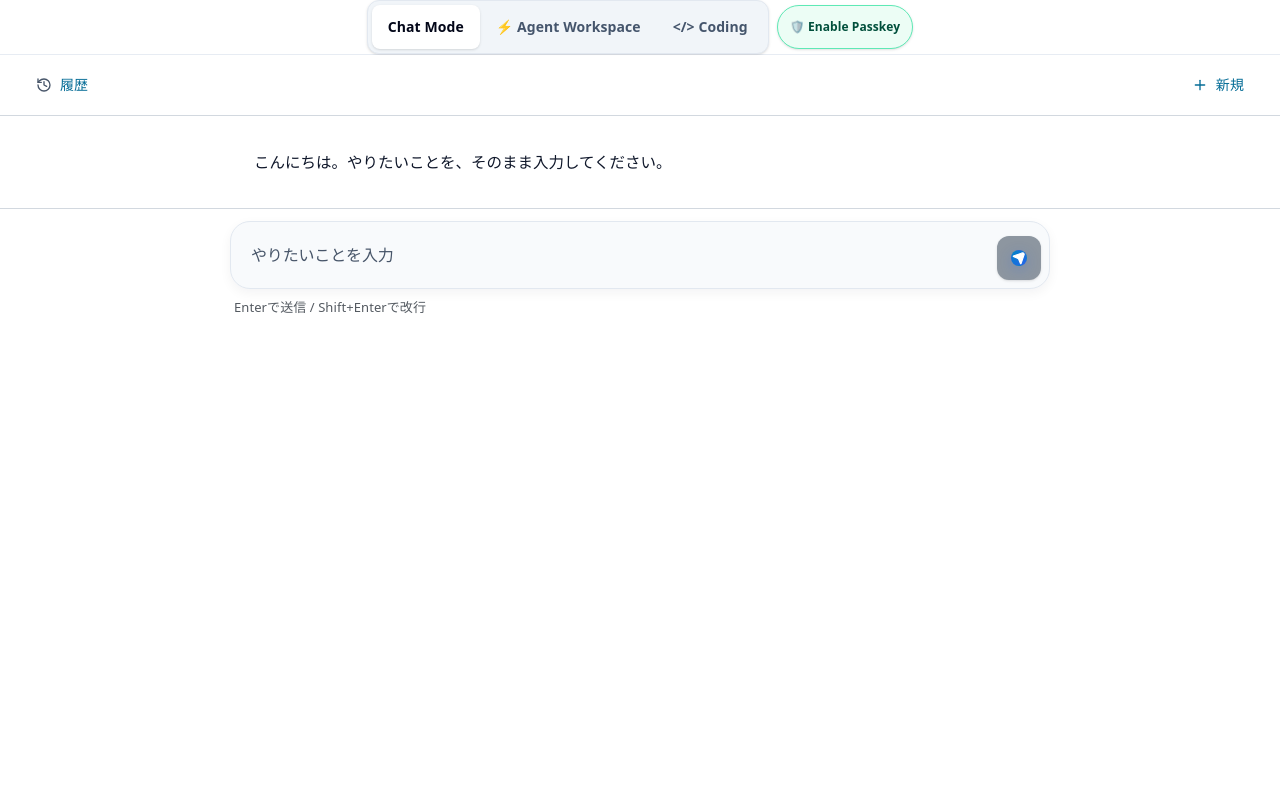
Test: UnifiedChat › shows verified Supervisor artifacts as downloads without persisting binary payloads
Type "競合を調査してPowerPointにまとめてください" into the text box with placeholder "やりたいことを入力" at (614, 255), box [239,230,989,280]
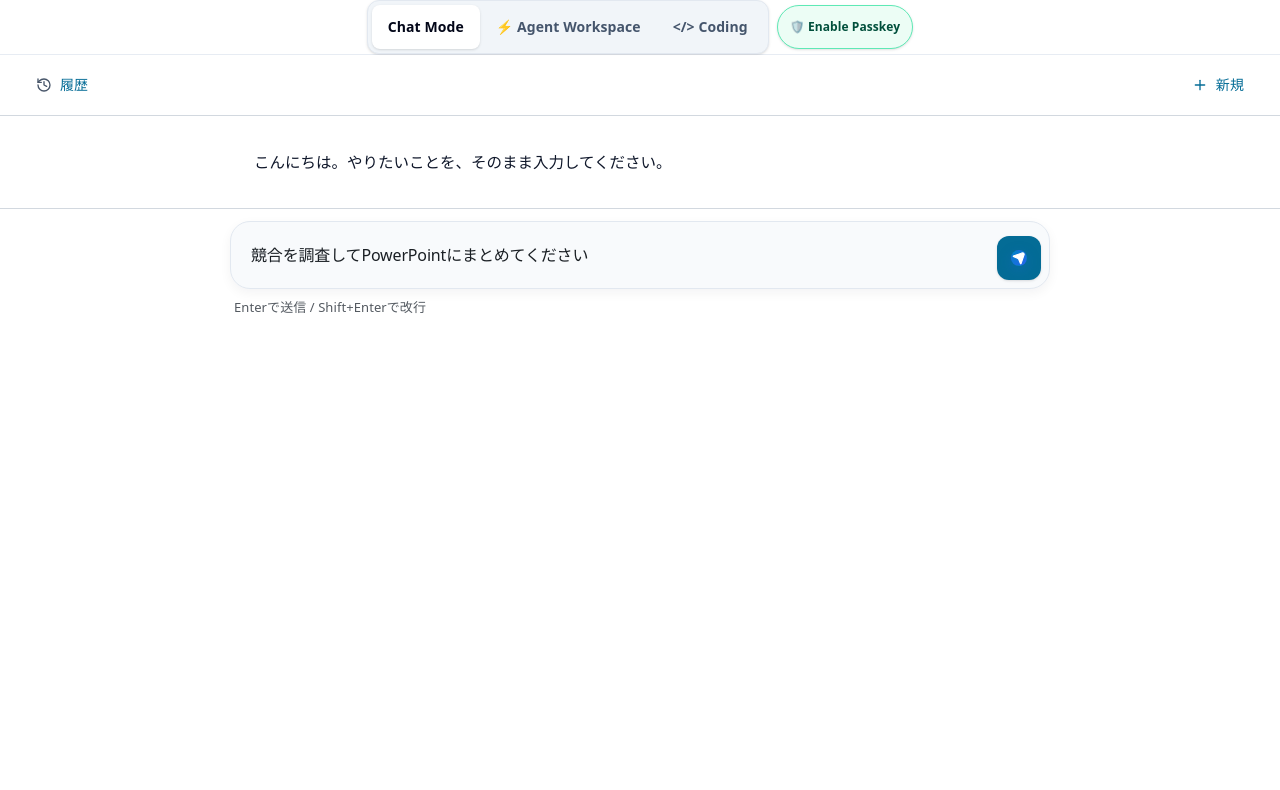
Click the button named "依頼を送信" at (1019, 258), box [997,236,1041,280]
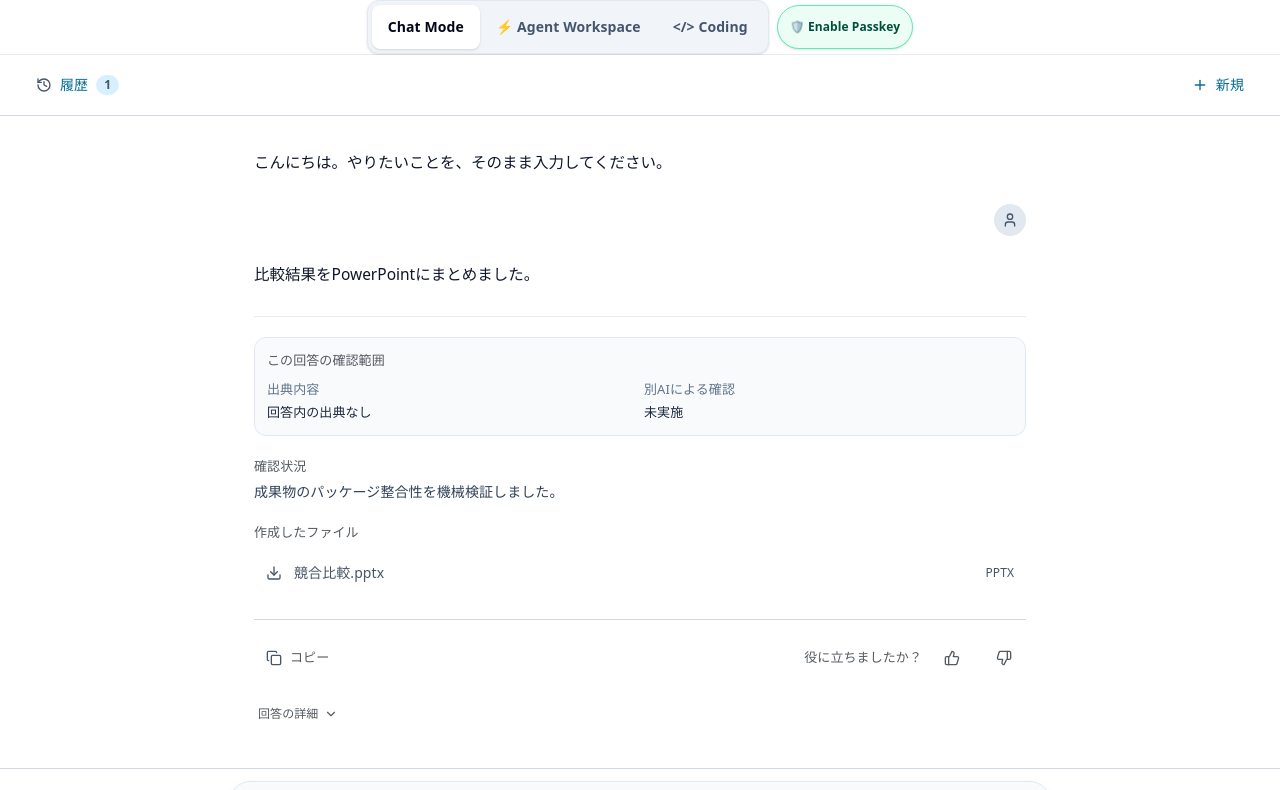
Check: the element with test id "answer-rich-outputs" is shown, box [254,522,1026,595]
Check: the button "競合比較.pptx pptx" is shown, box [254,551,1026,595]
